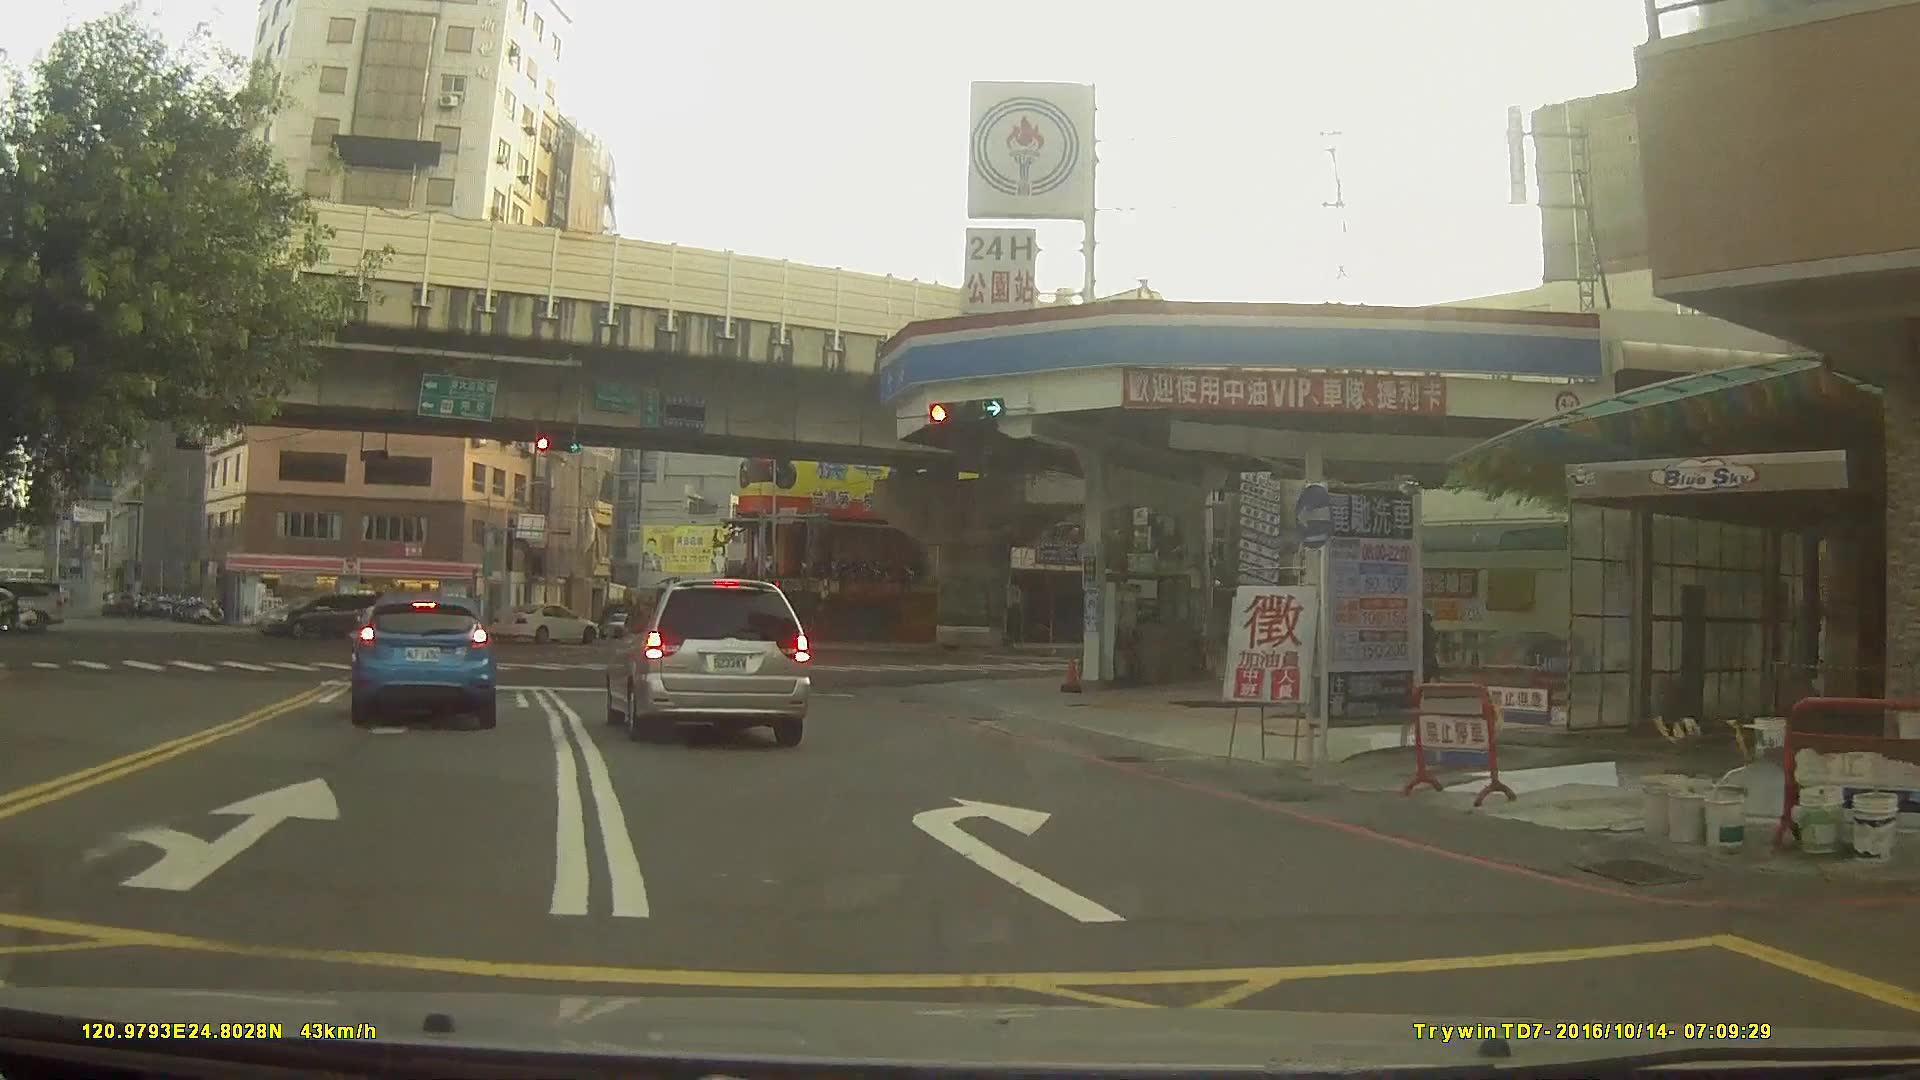vehicle: (603, 575, 808, 746), (345, 589, 498, 729), (257, 589, 384, 636), (492, 599, 597, 641)
